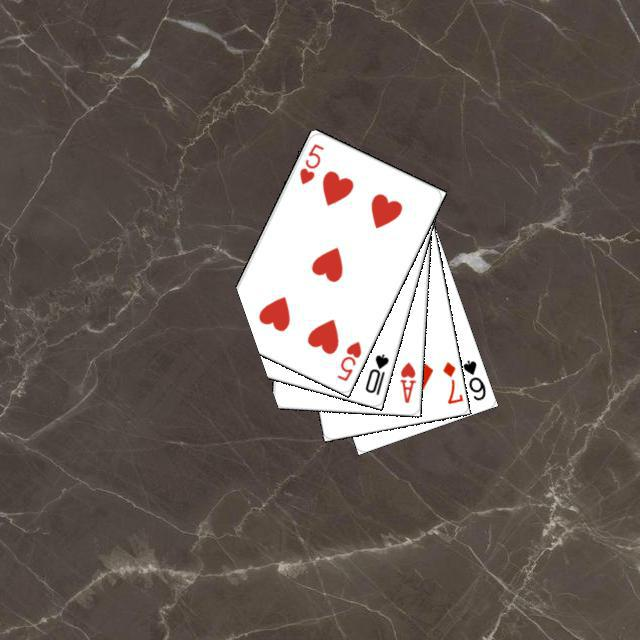10s: (360, 349, 390, 397)
5h: (294, 138, 325, 186), (332, 336, 363, 383)
6s: (458, 355, 488, 402)
7d: (438, 357, 463, 406)
Ah: (395, 357, 417, 405)
